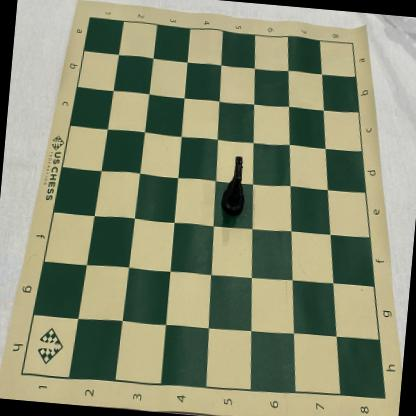knight: (220, 154, 248, 218)
